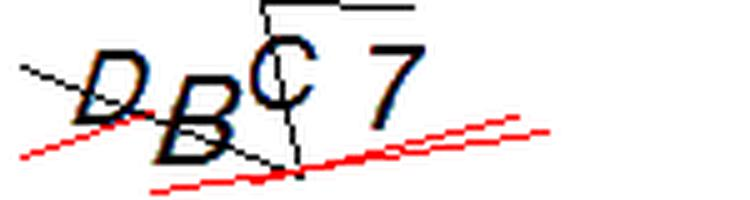7: (356, 38, 437, 136)
B: (147, 68, 249, 167)
C: (243, 29, 333, 116)
D: (68, 43, 157, 129)
